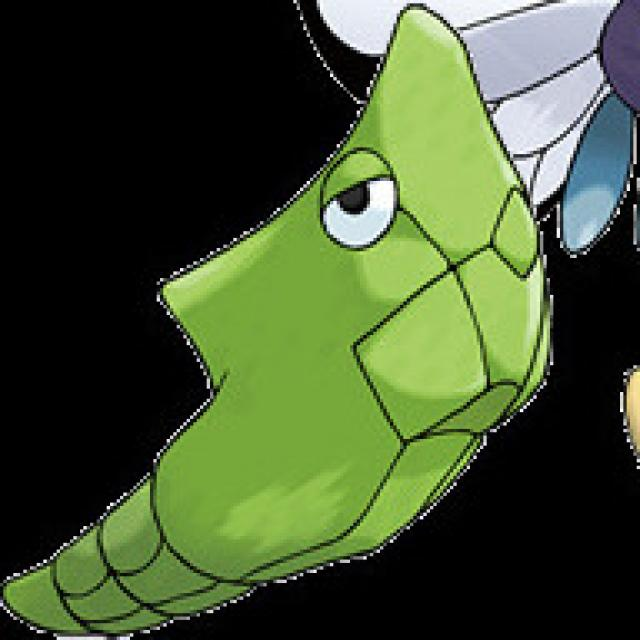Metapod: (105, 8, 556, 635)
